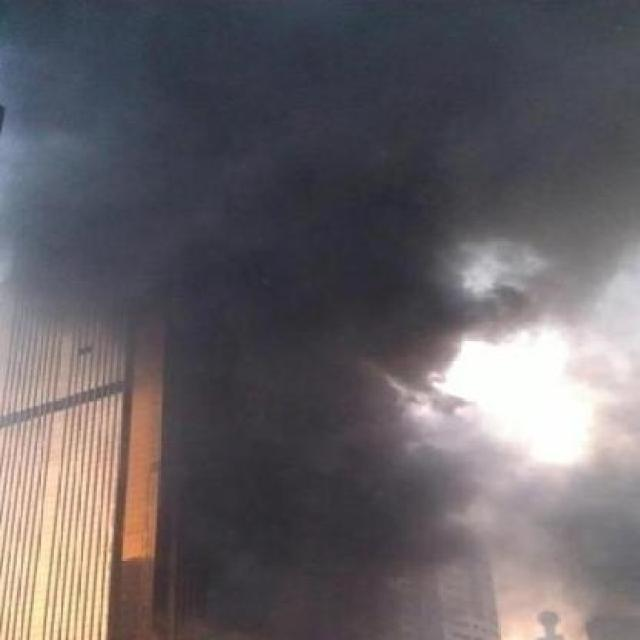Smoke: (20, 18, 605, 624)
